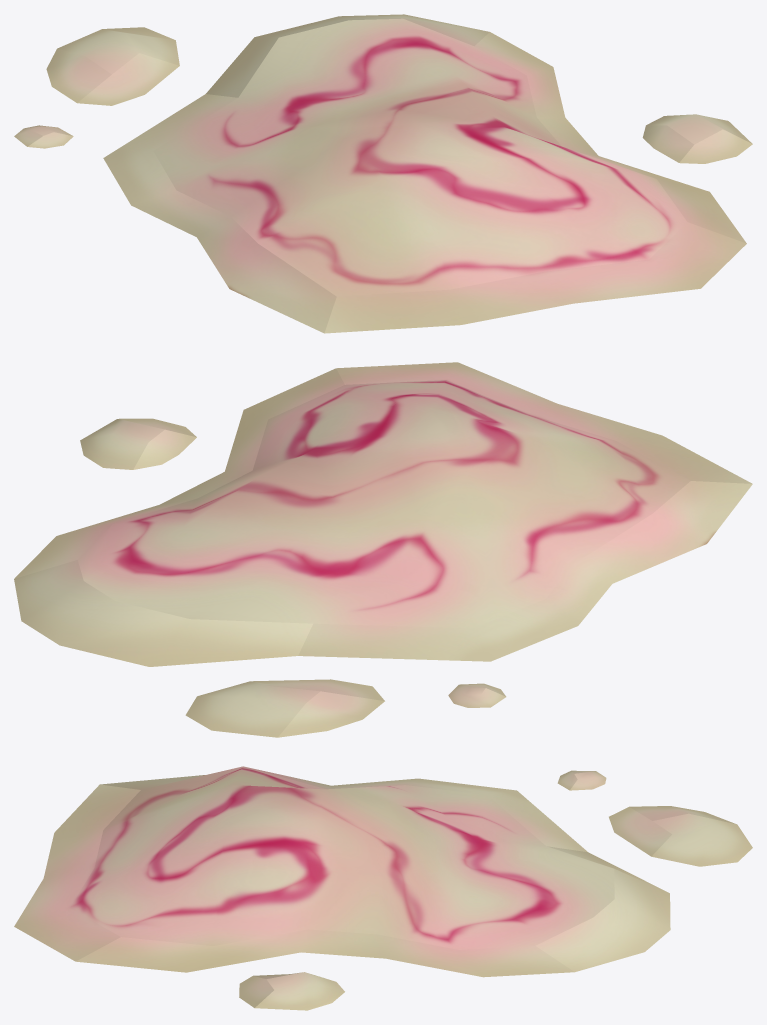
File: Gelato Blobpuddle w Drip.fbx
The picture shows the model from 3 angles, top to bottom: view 1: azimuth 30°, elevation 25°; view 2: azimuth 150°, elevation 25°; view 3: azimuth 270°, elevation 25°; orthographic projection. The views are drawn at different scales.
Parts seen in each view (by area): view 1: pCube30; view 2: pCube30; view 3: pCube30.
Part boxes in pixels (left/top/right/bottom): pCube30: left=14, top=14, right=752, bottom=333; pCube30: left=14, top=362, right=752, bottom=737; pCube30: left=14, top=766, right=752, bottom=1010.
Bounding box in the file's own units: 170 × 19.55 × 222.
